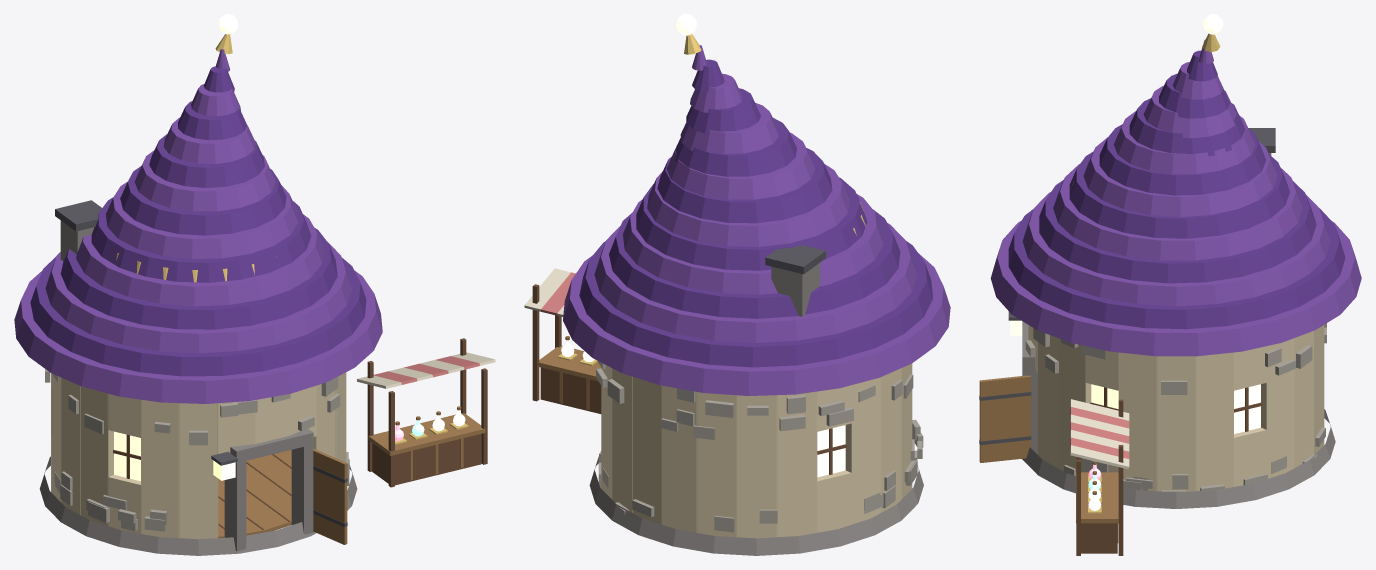
Rendered from witch_shop.glb.
3 renders of one model, left to right at view 1: azimuth 30°, elevation 25°; view 2: azimuth 150°, elevation 25°; view 3: azimuth 270°, elevation 25°, orthographic. The views are drawn at different scales.
Parts seen in each view (by area): view 1: roof, wall, stall, base, interior; view 2: roof, wall, base, stall; view 3: roof, wall, stall, base.
Boxes of the visible parts, <box> form: roof: <box>14,14,382,403</box>; wall: <box>45,369,349,551</box>; stall: <box>357,338,495,487</box>; base: <box>39,456,357,555</box>; interior: <box>218,450,291,537</box>; roof: <box>563,14,950,395</box>; wall: <box>596,360,923,538</box>; base: <box>589,456,923,555</box>; stall: <box>524,268,601,413</box>; roof: <box>990,14,1361,356</box>; wall: <box>979,311,1326,492</box>; stall: <box>1070,399,1129,555</box>; base: <box>1022,409,1335,508</box>.
Size of the model in its own units: 14.36 by 15.27 by 11.75.
